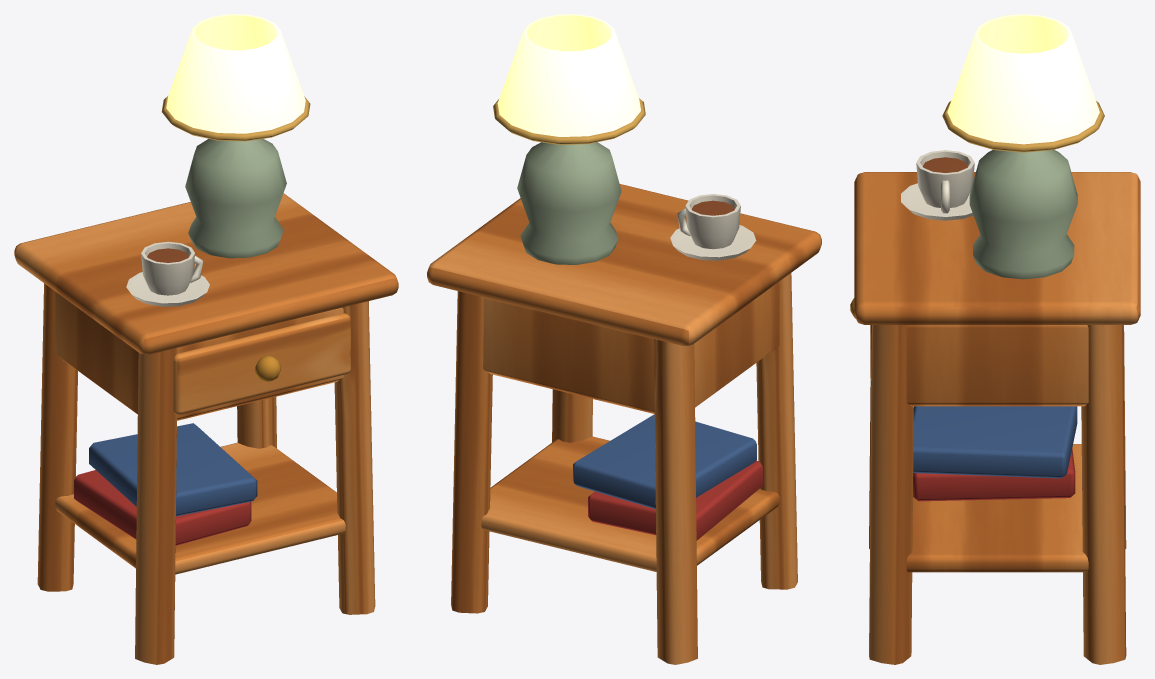
Rendered from nightstand.glb.
3 renders of one model, left to right at view 1: azimuth 30°, elevation 25°; view 2: azimuth 150°, elevation 25°; view 3: azimuth 270°, elevation 25°, orthographic. The views are drawn at different scales.
Parts seen in each view (by area): view 1: model; view 2: model; view 3: model.
Part boxes in pixels (<box>): model: <box>14,14,398,664</box>; model: <box>427,14,821,664</box>; model: <box>850,14,1140,664</box>.
Size of the model in its own units: 0.5 by 1 by 0.4464.
Materials: 11 (2 with a texture image).
